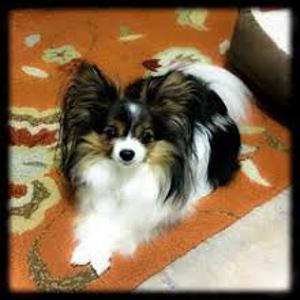yell: (57, 59, 251, 265)
